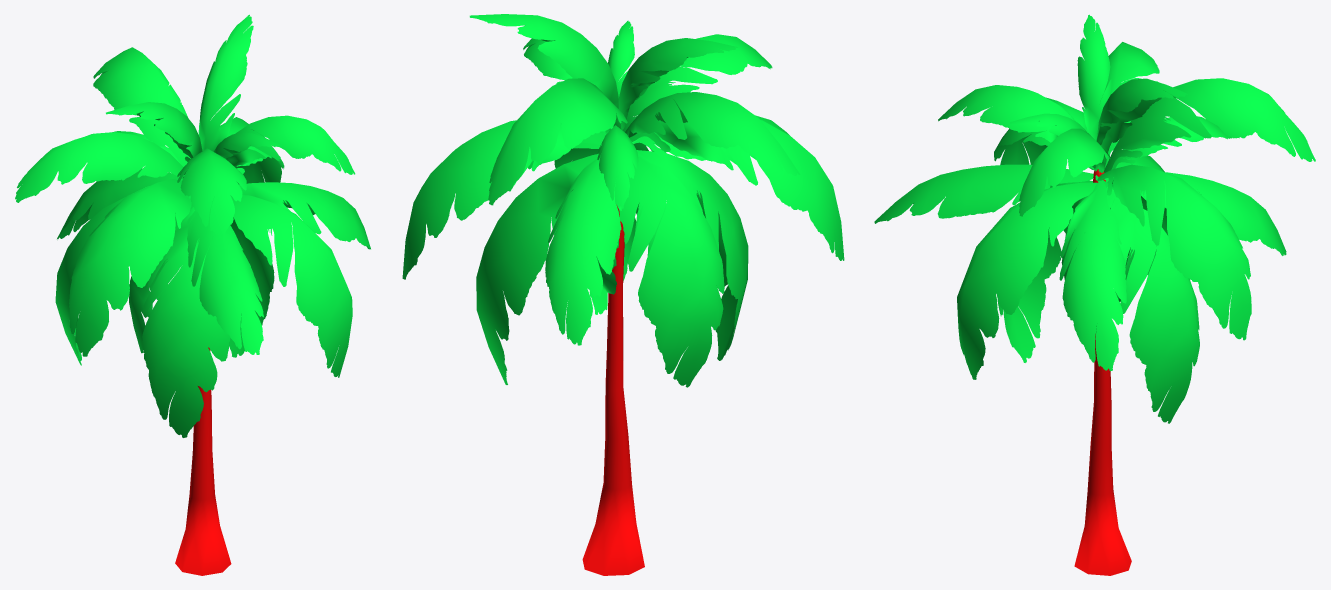
Rendered from Banana_Big_2018.FBX.
3 renders of one model, left to right at view 1: azimuth 30°, elevation 25°; view 2: azimuth 150°, elevation 25°; view 3: azimuth 270°, elevation 25°, orthographic. The views are drawn at different scales.
Parts seen in each view (by area): view 1: Banana-Big_Leafs_LOD0, Banana-Big_Trunk_LOD0; view 2: Banana-Big_Leafs_LOD0, Banana-Big_Trunk_LOD0; view 3: Banana-Big_Leafs_LOD0, Banana-Big_Trunk_LOD0.
Part boxes in pixels (<box>): Banana-Big_Leafs_LOD0: <box>15,14,370,437</box>; Banana-Big_Trunk_LOD0: <box>175,347,231,575</box>; Banana-Big_Leafs_LOD0: <box>402,14,844,387</box>; Banana-Big_Trunk_LOD0: <box>582,205,644,575</box>; Banana-Big_Leafs_LOD0: <box>874,14,1315,423</box>; Banana-Big_Trunk_LOD0: <box>1074,169,1131,575</box>.
Size of what is drawn, in the model's own units: 50.7 by 68.98 by 53.94.
